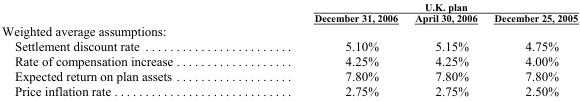table: (1, 0, 577, 97)
table column: (1, 0, 242, 97), (242, 0, 405, 97), (485, 0, 577, 97), (405, 0, 485, 97)
table column header: (1, 0, 577, 23)
table projected row header: (1, 23, 577, 38)
table row: (1, 23, 577, 38), (1, 38, 577, 53), (1, 53, 577, 68), (1, 82, 577, 97), (1, 68, 577, 82), (1, 11, 577, 23), (1, 0, 577, 11)
table spanning cell: (242, 0, 577, 11)
